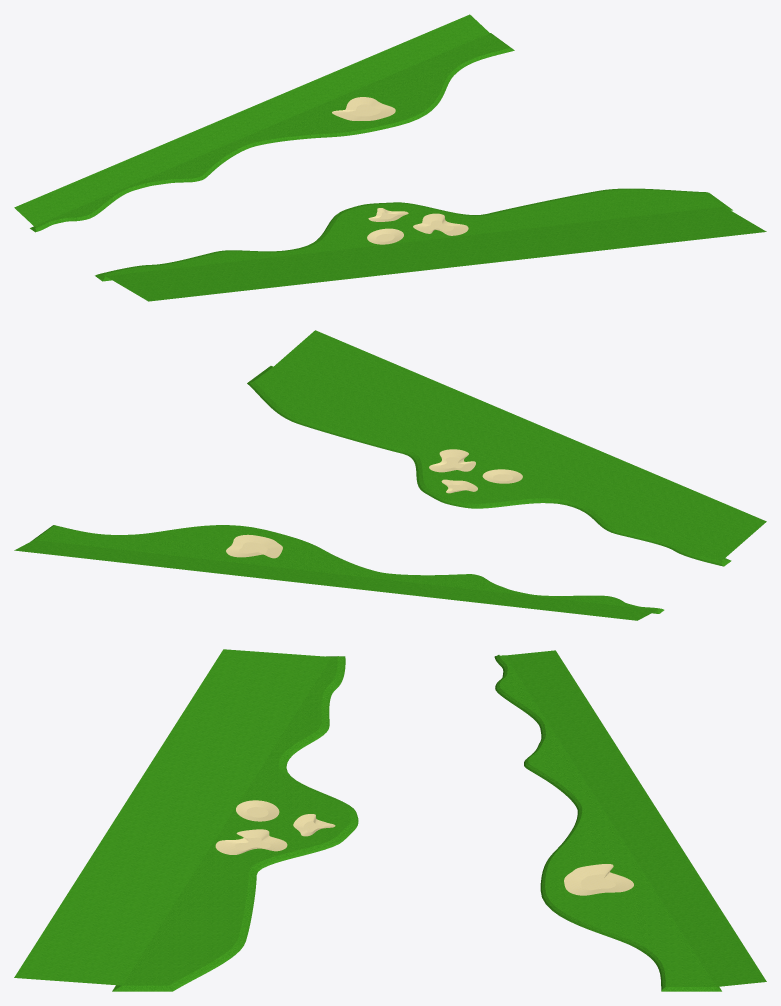
The model's file is bunker_green.glb.
3 renders of one model, top to bottom at view 1: azimuth 30°, elevation 25°; view 2: azimuth 150°, elevation 25°; view 3: azimuth 270°, elevation 25°, orthographic. The views are drawn at different scales.
Parts seen in each view (by area): view 1: Bunker Green; view 2: Bunker Green; view 3: Bunker Green.
Boxes of the visible parts, bbox=[...] form: Bunker Green: bbox=[14, 14, 766, 301]; Bunker Green: bbox=[14, 330, 766, 620]; Bunker Green: bbox=[14, 649, 766, 991].
Size of the model in its own units: 390 by 5.67 by 370.
Materials: 2 (2 with a texture image).
